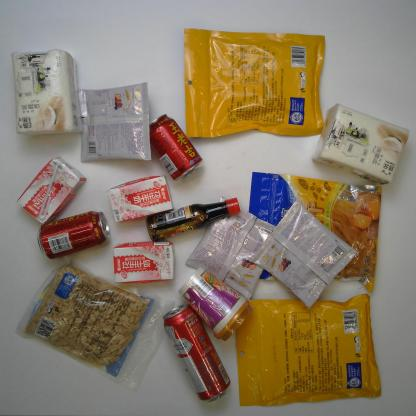Alcohol: (162, 303, 232, 403)
Dried Fruit: (13, 260, 178, 392), (234, 292, 383, 408), (247, 171, 383, 292), (183, 27, 327, 139)
Drink: (150, 113, 204, 182), (37, 210, 111, 258)
Instant Drink: (248, 200, 358, 309), (184, 195, 276, 299), (78, 81, 152, 163), (177, 266, 254, 343)
Milk: (16, 156, 88, 225), (107, 174, 174, 224), (112, 239, 175, 284)
Seasoner: (145, 196, 242, 242)
Tissue: (311, 103, 411, 186), (10, 47, 83, 136)
